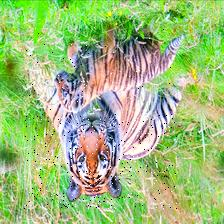tiger: (24, 104, 178, 208), (25, 26, 182, 112)
